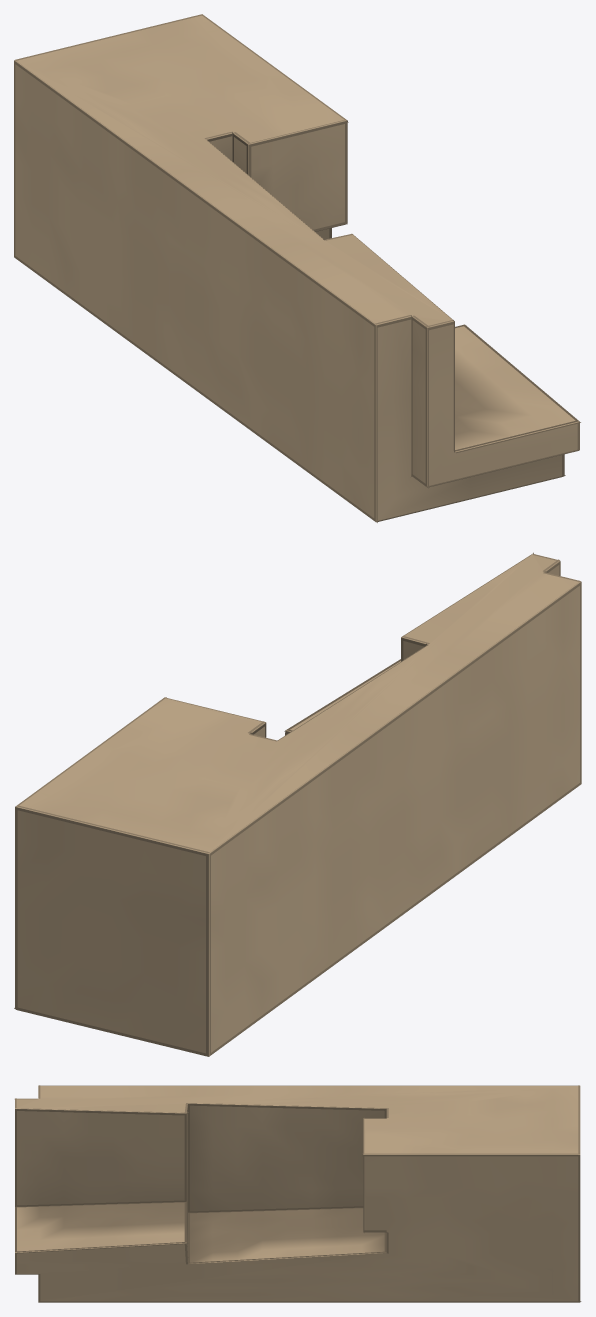
3 views of the same model, one above another, from view 1: azimuth 30°, elevation 25°; view 2: azimuth 150°, elevation 25°; view 3: azimuth 270°, elevation 25° (orthographic). The views are drawn at different scales.
Visible parts, largest first — view 1: part-b; view 2: part-b; view 3: part-b.
Boxes of the visible parts, x1,y1,x2,y2 form: part-b: (14, 14, 580, 522); part-b: (14, 552, 581, 1056); part-b: (14, 1085, 581, 1302).
Size of the model in its own units: 0.1217 by 0.1226 by 0.4191.
